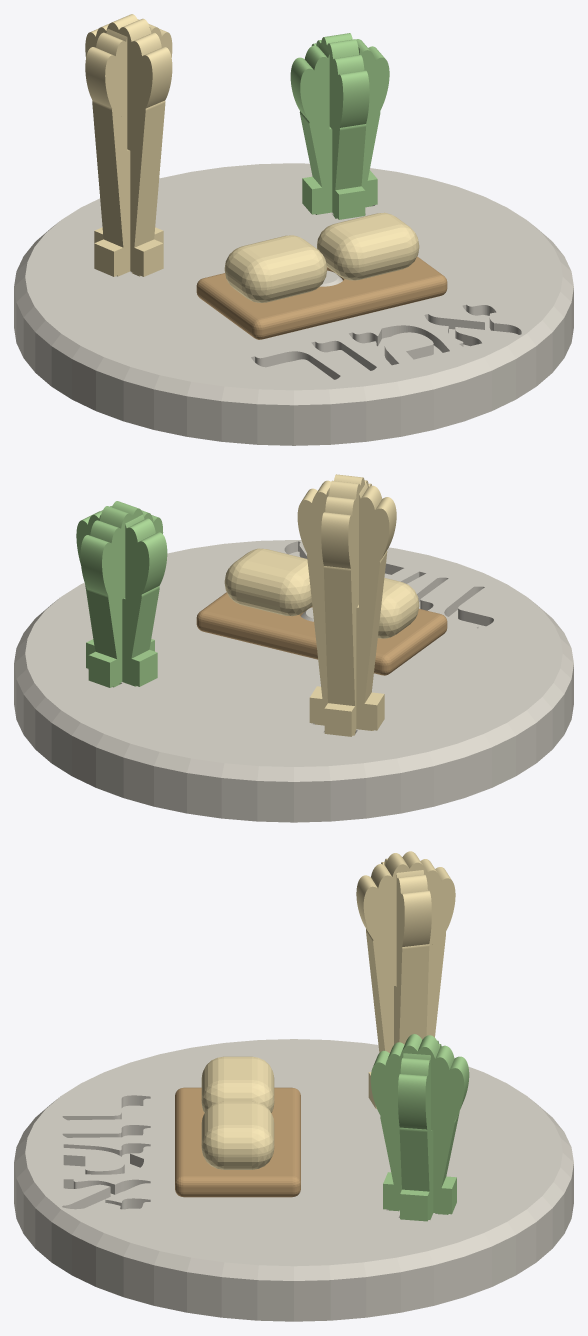
Rendered from emor.glb.
3 views of the same model, one above another, from view 1: azimuth 30°, elevation 25°; view 2: azimuth 150°, elevation 25°; view 3: azimuth 270°, elevation 25° (orthographic).
Parts seen in each view (by area): view 1: stage, ripe-b, tray, ripe-a, green-a, green-b, loaf-1, loaf-2; view 2: stage, ripe-a, ripe-b, green-b, tray, green-a, loaf-2, loaf-1; view 3: stage, ripe-b, green-b, tray, ripe-a, green-a, loaf-2, loaf-1.
Part boxes in pixels (<box>): stage: <box>14,163,573,445</box>; ripe-b: <box>85,14,172,276</box>; tray: <box>196,256,447,339</box>; ripe-a: <box>85,19,172,276</box>; green-a: <box>290,39,389,214</box>; green-b: <box>311,33,369,219</box>; loaf-1: <box>224,235,326,302</box>; loaf-2: <box>317,212,419,280</box>; stage: <box>14,540,573,822</box>; ripe-a: <box>297,480,396,730</box>; ripe-b: <box>321,474,371,736</box>; green-b: <box>80,501,163,687</box>; tray: <box>196,592,447,675</box>; green-a: <box>76,506,167,686</box>; loaf-2: <box>224,548,312,616</box>; loaf-1: <box>378,578,419,638</box>; stage: <box>14,1039,573,1321</box>; ripe-b: <box>356,851,455,1108</box>; green-b: <box>370,1034,469,1214</box>; tray: <box>175,1087,300,1197</box>; ripe-a: <box>381,858,431,1044</box>; green-a: <box>398,1040,441,1221</box>; loaf-2: <box>201,1101,274,1169</box>; loaf-1: <box>201,1056,274,1112</box>.
Size of the model in its own units: 40 by 23.04 by 40.
